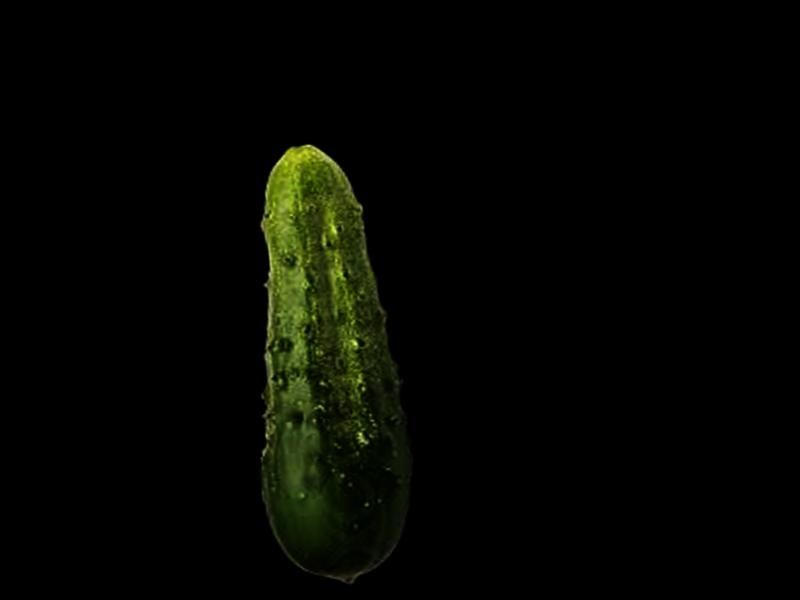Cucumber: (228, 137, 428, 591)
